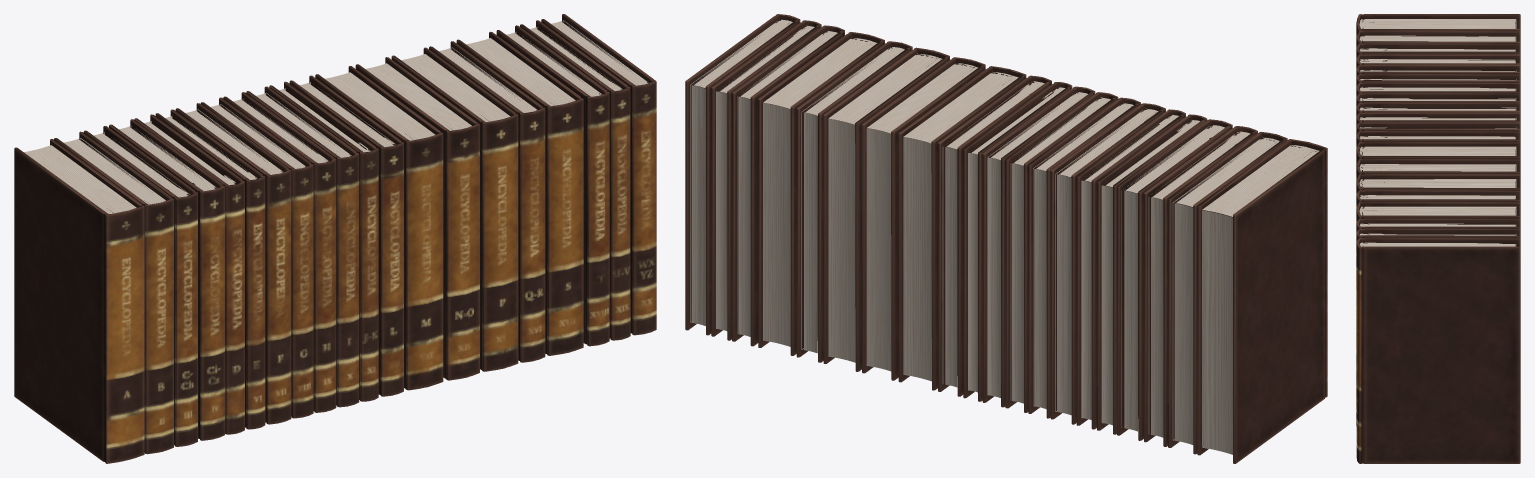
The model's file is book_encyclopedia_set_01.glb.
3 views of the same model, side by side, from view 1: azimuth 30°, elevation 25°; view 2: azimuth 150°, elevation 25°; view 3: azimuth 270°, elevation 25° (orthographic). The views are drawn at different scales.
Visible parts, largest first — view 1: book_encyclopedia_set_01_book01, book_encyclopedia_set_01_book13, book_encyclopedia_set_01_book15, book_encyclopedia_set_01_book17, book_encyclopedia_set_01_book14, book_encyclopedia_set_01_book02, book_encyclopedia_set_01_book16, book_encyclopedia_set_01_book04, book_encyclopedia_set_01_book20, book_encyclopedia_set_01_book18, book_encyclopedia_set_01_book07, book_encyclopedia_set_01_book12 (+8 smaller); view 2: book_encyclopedia_set_01_book01, book_encyclopedia_set_01_book13, book_encyclopedia_set_01_book15, book_encyclopedia_set_01_book17, book_encyclopedia_set_01_book14, book_encyclopedia_set_01_book02, book_encyclopedia_set_01_book16, book_encyclopedia_set_01_book04, book_encyclopedia_set_01_book18, book_encyclopedia_set_01_book20, book_encyclopedia_set_01_book07, book_encyclopedia_set_01_book12 (+8 smaller); view 3: book_encyclopedia_set_01_book20, book_encyclopedia_set_01_book17, book_encyclopedia_set_01_book01, book_encyclopedia_set_01_book13, book_encyclopedia_set_01_book15, book_encyclopedia_set_01_book14, book_encyclopedia_set_01_book02, book_encyclopedia_set_01_book16, book_encyclopedia_set_01_book03, book_encyclopedia_set_01_book12, book_encyclopedia_set_01_book04, book_encyclopedia_set_01_book07 (+8 smaller).
Boxes of the visible parts, left/top/right/bottom form: book_encyclopedia_set_01_book01: left=14, top=139, right=144, bottom=463; book_encyclopedia_set_01_book13: left=315, top=66, right=443, bottom=390; book_encyclopedia_set_01_book15: left=391, top=47, right=518, bottom=371; book_encyclopedia_set_01_book17: left=456, top=31, right=583, bottom=355; book_encyclopedia_set_01_book14: left=355, top=57, right=479, bottom=380; book_encyclopedia_set_01_book02: left=54, top=131, right=173, bottom=454; book_encyclopedia_set_01_book16: left=429, top=41, right=545, bottom=362; book_encyclopedia_set_01_book04: left=109, top=119, right=224, bottom=440; book_encyclopedia_set_01_book20: left=541, top=14, right=656, bottom=335; book_encyclopedia_set_01_book18: left=496, top=25, right=609, bottom=346; book_encyclopedia_set_01_book07: left=175, top=103, right=291, bottom=424; book_encyclopedia_set_01_book12: left=289, top=75, right=403, bottom=396; book_encyclopedia_set_01_book01: left=1197, top=139, right=1327, bottom=463; book_encyclopedia_set_01_book13: left=898, top=66, right=1026, bottom=390; book_encyclopedia_set_01_book15: left=823, top=47, right=949, bottom=371; book_encyclopedia_set_01_book17: left=758, top=32, right=884, bottom=355; book_encyclopedia_set_01_book14: left=861, top=57, right=985, bottom=380; book_encyclopedia_set_01_book02: left=1168, top=132, right=1287, bottom=454; book_encyclopedia_set_01_book16: left=796, top=41, right=912, bottom=362; book_encyclopedia_set_01_book04: left=1117, top=119, right=1232, bottom=440; book_encyclopedia_set_01_book18: left=732, top=25, right=844, bottom=346; book_encyclopedia_set_01_book20: left=685, top=14, right=800, bottom=335; book_encyclopedia_set_01_book07: left=1050, top=103, right=1165, bottom=424; book_encyclopedia_set_01_book12: left=938, top=75, right=1051, bottom=396; book_encyclopedia_set_01_book20: left=1356, top=238, right=1520, bottom=463; book_encyclopedia_set_01_book17: left=1356, top=202, right=1520, bottom=425; book_encyclopedia_set_01_book01: left=1356, top=14, right=1520, bottom=35; book_encyclopedia_set_01_book13: left=1356, top=142, right=1520, bottom=189; book_encyclopedia_set_01_book15: left=1356, top=174, right=1520, bottom=194; book_encyclopedia_set_01_book14: left=1356, top=159, right=1520, bottom=181; book_encyclopedia_set_01_book02: left=1356, top=30, right=1520, bottom=47; book_encyclopedia_set_01_book16: left=1356, top=190, right=1520, bottom=208; book_encyclopedia_set_01_book03: left=1356, top=43, right=1520, bottom=58; book_encyclopedia_set_01_book12: left=1356, top=131, right=1520, bottom=190; book_encyclopedia_set_01_book04: left=1356, top=54, right=1520, bottom=77; book_encyclopedia_set_01_book07: left=1356, top=82, right=1520, bottom=97.
Bounding box in the file's own units: 0.5513 × 0.2374 × 0.1636.
2 materials, 2 textured.
